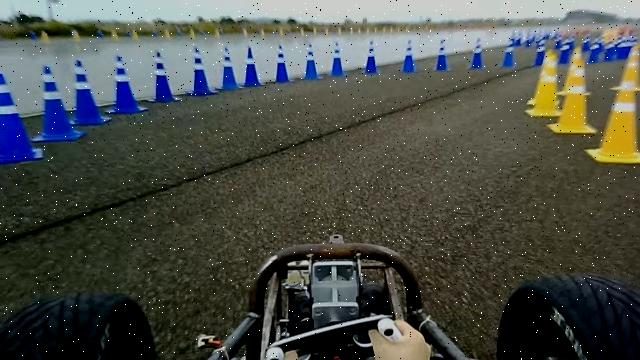blue cone: (30, 65, 86, 142), (0, 72, 43, 164), (68, 59, 112, 125), (104, 55, 148, 114), (147, 50, 182, 103), (185, 46, 218, 96), (215, 46, 241, 90), (239, 46, 266, 87), (269, 44, 294, 84)
yellow cone: (584, 41, 640, 164), (524, 49, 560, 117), (556, 68, 590, 134)
